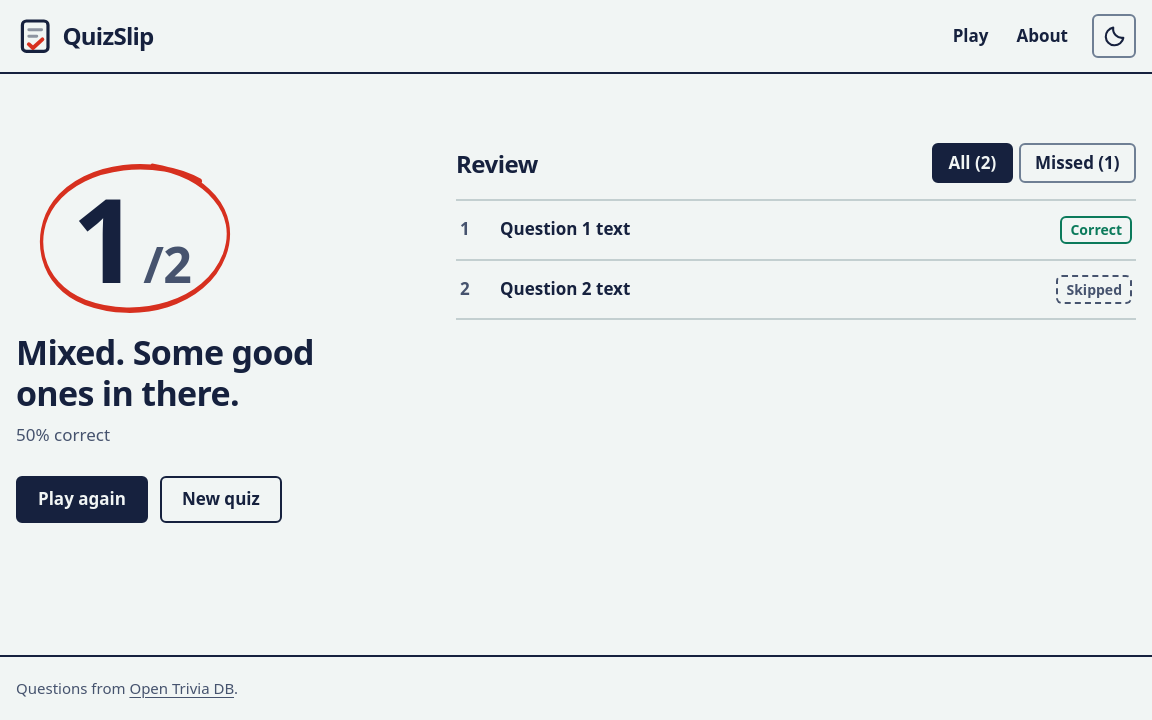
Scenario: results page › goes back to setup with "New quiz"
Click the button "New quiz".
click(221, 499)  # box [160,476,282,522]
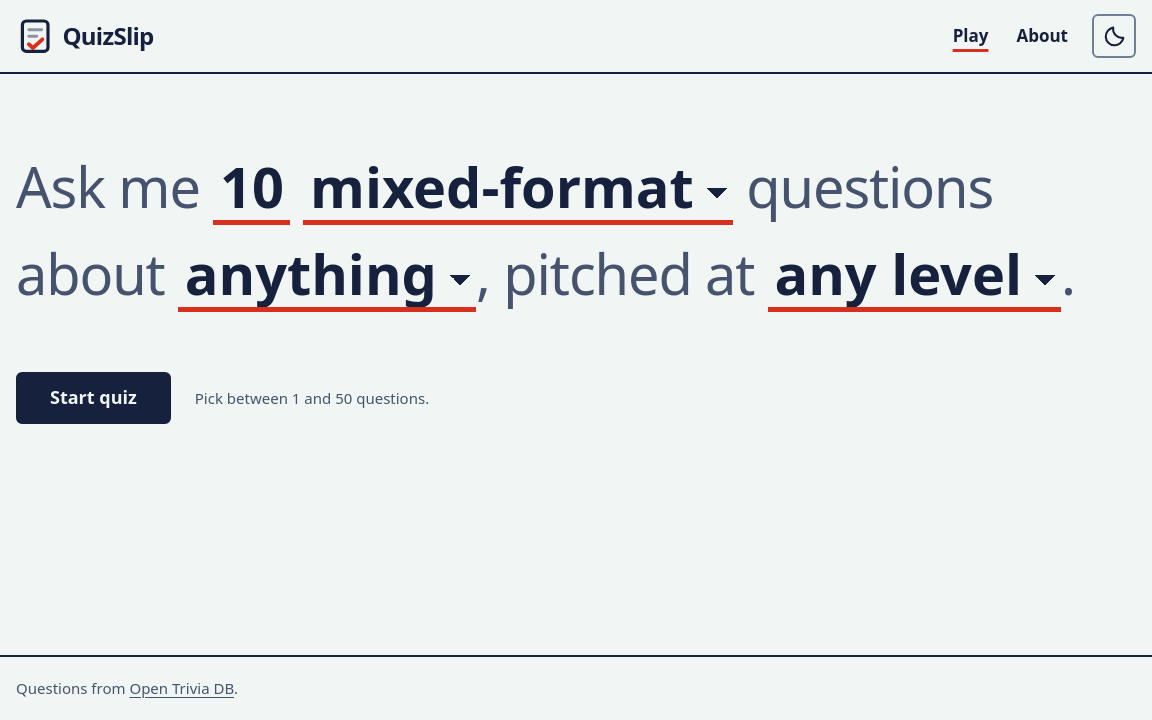
Now the button "Start quiz" is shown, box [16,372,171,424]
